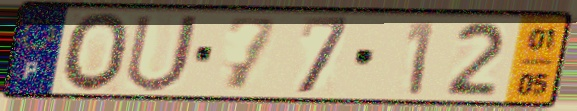1: (403, 19, 439, 97)
2: (443, 19, 510, 98)
7: (297, 13, 351, 99), (223, 14, 279, 95)
O: (60, 10, 133, 94)
U: (121, 12, 204, 95)
